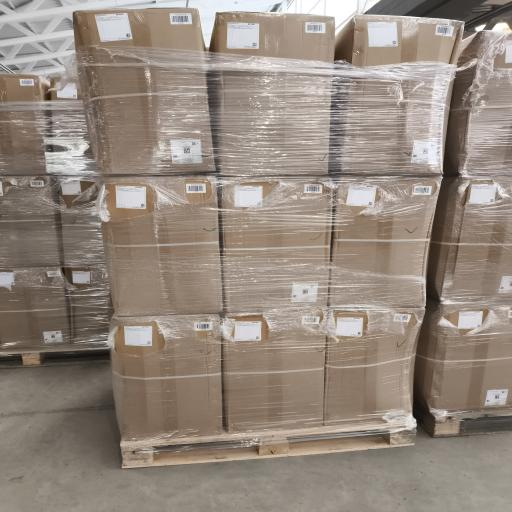pallet: (121, 424, 415, 468), (414, 403, 511, 437), (0, 348, 109, 368)
